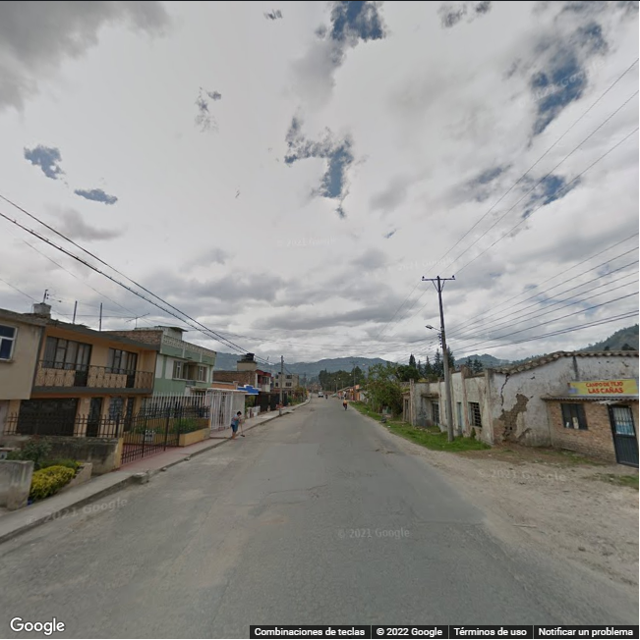D00: (460, 525, 577, 629), (204, 574, 232, 631), (216, 513, 240, 553)
